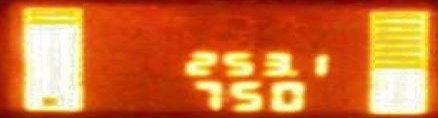-: (285, 68, 301, 77)
0: (267, 80, 307, 113)
1: (310, 51, 331, 78)
2: (182, 50, 217, 77)
3: (260, 50, 291, 77)
5: (226, 79, 263, 111), (218, 50, 255, 78)
7: (190, 78, 223, 111)
